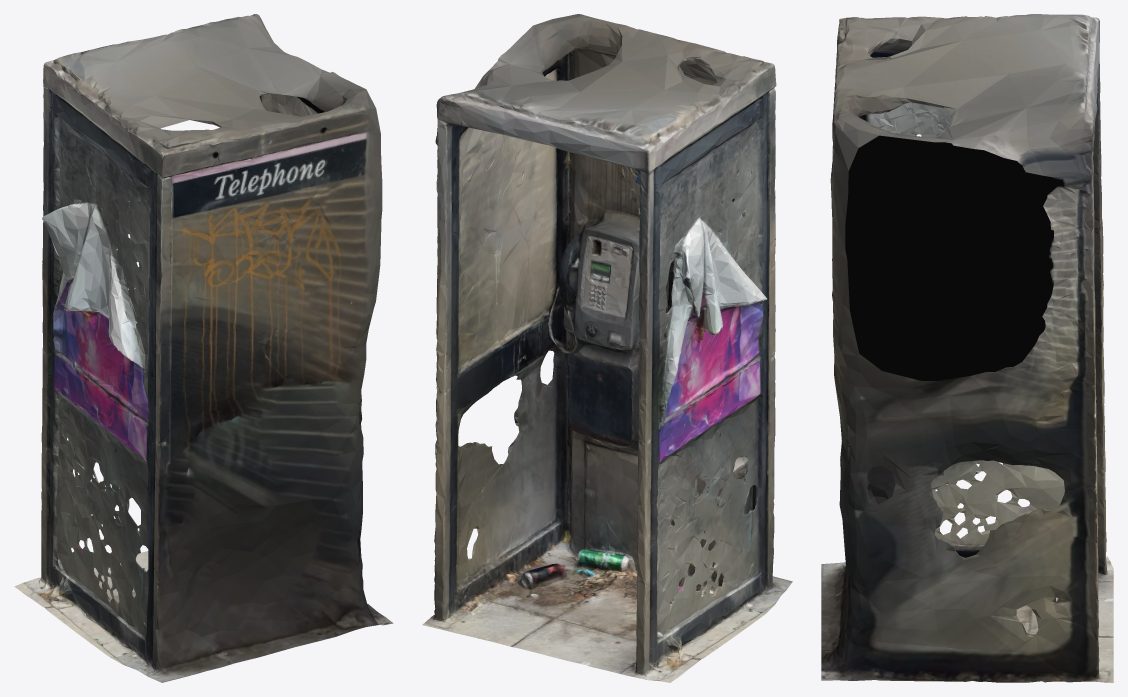
The model's file is kiosk.glb.
The picture shows the model from 3 angles, left to right: view 1: azimuth 30°, elevation 25°; view 2: azimuth 150°, elevation 25°; view 3: azimuth 270°, elevation 25°; orthographic projection. The views are drawn at different scales.
Visible parts, largest first — view 1: 3DModel; view 2: 3DModel; view 3: 3DModel.
Part boxes in pixels (bbox=[...]): 3DModel: bbox=[14, 14, 393, 682]; 3DModel: bbox=[422, 14, 792, 682]; 3DModel: bbox=[821, 14, 1113, 682].
Size of the model in its own units: 0.527 by 1.11 by 0.514.
Materials: 1 (1 with a texture image).
